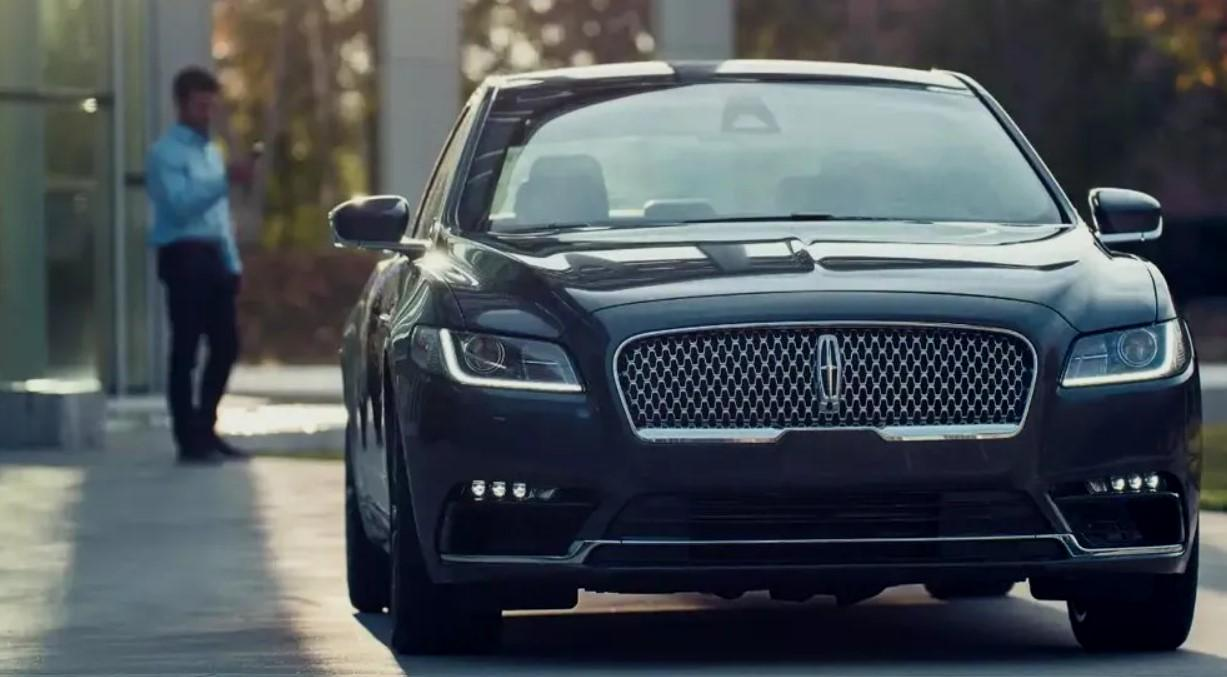lincoln: (812, 327, 850, 412)
